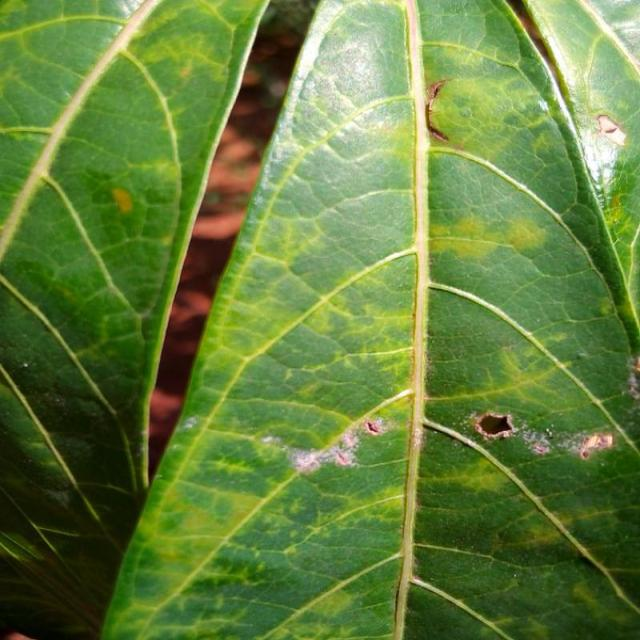cassava leaf: (100, 0, 640, 638), (2, 0, 272, 637)
